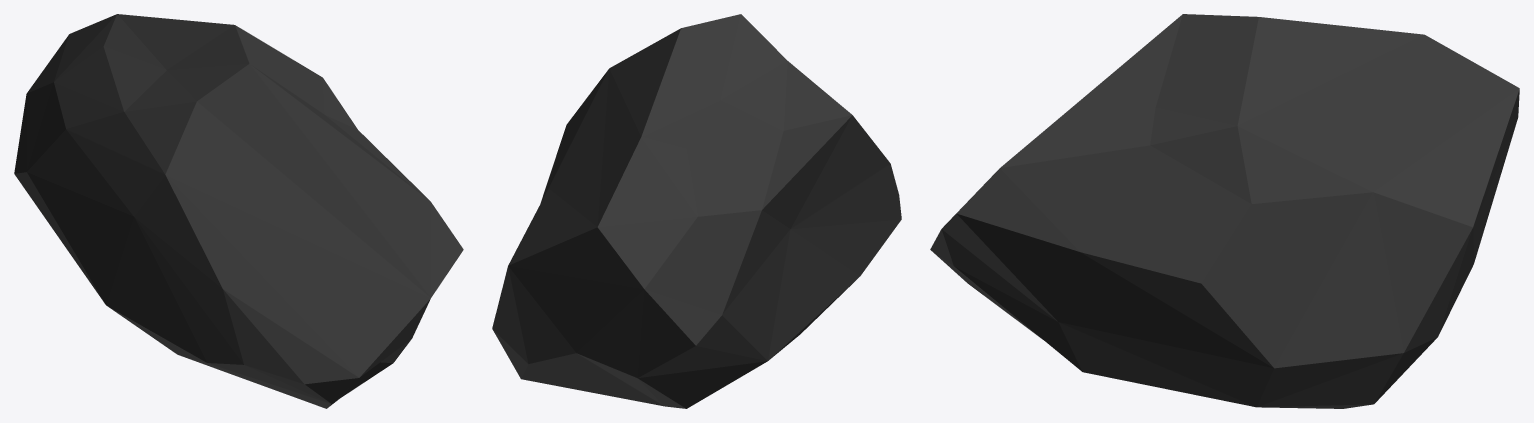
Rendered from pedra.fbx.
3 renders of one model, left to right at view 1: azimuth 30°, elevation 25°; view 2: azimuth 150°, elevation 25°; view 3: azimuth 270°, elevation 25°, orthographic. The views are drawn at different scales.
Parts seen in each view (by area): view 1: pedra; view 2: pedra; view 3: pedra.
Part boxes in pixels (box(x1,y1,x2,y2)): pedra: box(14, 14, 463, 408); pedra: box(492, 14, 901, 408); pedra: box(930, 14, 1519, 408).
Size of the model in its own units: 87.31 by 100 by 155.
